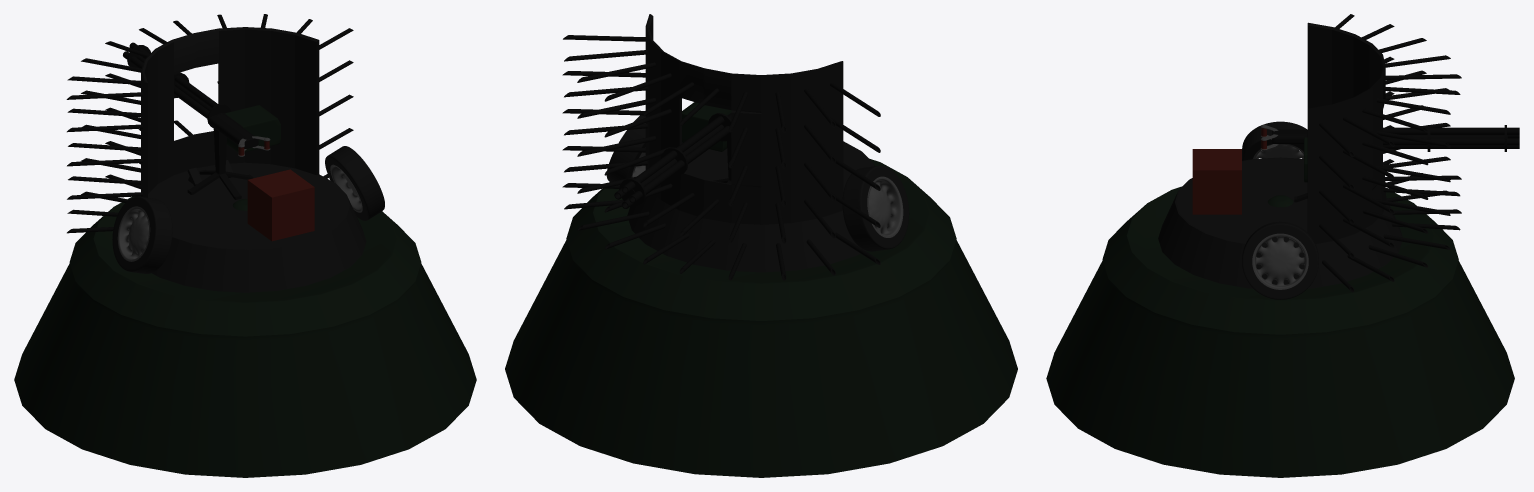
File: Tower_2.1.FBX
3 views of the same model, side by side, from view 1: azimuth 30°, elevation 25°; view 2: azimuth 150°, elevation 25°; view 3: azimuth 270°, elevation 25° (orthographic). The views are drawn at different scales.
Visible parts, largest first — view 1: Cylinder003, Box002, Cylinder006, Body014, Body013; view 2: Cylinder003, Box002, Body014, Cylinder006, Body013; view 3: Cylinder003, Box002, Body013, Cylinder006, Body014.
Boxes of the visible parts, bbox=[...] form: Cylinder003: bbox=[14, 196, 476, 477]; Box002: bbox=[66, 14, 366, 292]; Cylinder006: bbox=[123, 42, 280, 156]; Body014: bbox=[112, 196, 172, 273]; Body013: bbox=[325, 146, 384, 220]; Cylinder003: bbox=[505, 158, 1017, 477]; Box002: bbox=[562, 14, 880, 280]; Body014: bbox=[842, 165, 909, 251]; Cylinder006: bbox=[614, 102, 731, 208]; Body013: bbox=[606, 115, 645, 181]; Cylinder003: bbox=[1046, 186, 1514, 477]; Box002: bbox=[1158, 14, 1461, 292]; Body013: bbox=[1242, 221, 1318, 299]; Cylinder006: bbox=[1260, 124, 1519, 182]; Body014: bbox=[1242, 121, 1306, 160].
Bounding box in the file's own units: 357 × 263 × 360.
